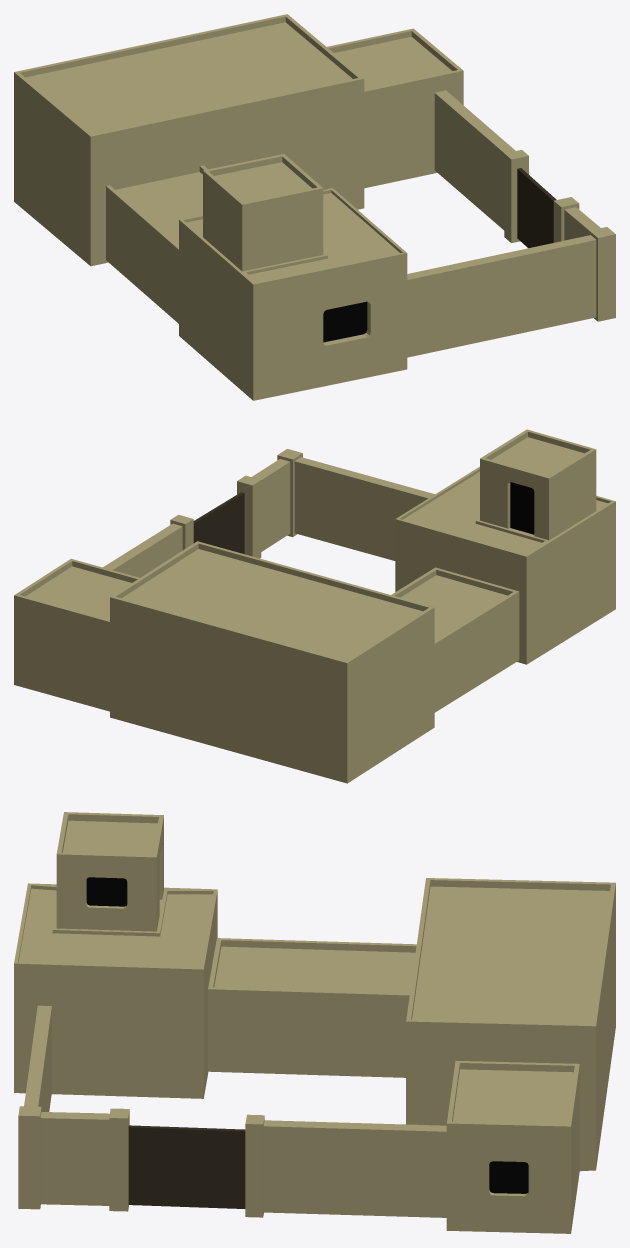
File: _mall house.fbx
3 renders of one model, top to bottom at view 1: azimuth 30°, elevation 25°; view 2: azimuth 150°, elevation 25°; view 3: azimuth 270°, elevation 25°, orthographic. The views are drawn at different scales.
Visible parts, largest first — view 1: pCube143; view 2: pCube143; view 3: pCube143.
Part boxes in pixels (box(x1,y1,x2,y2)): pCube143: box(14, 14, 615, 400); pCube143: box(14, 429, 615, 783); pCube143: box(14, 812, 615, 1233).
Size of the model in its own units: 1092 by 476 by 1265.
